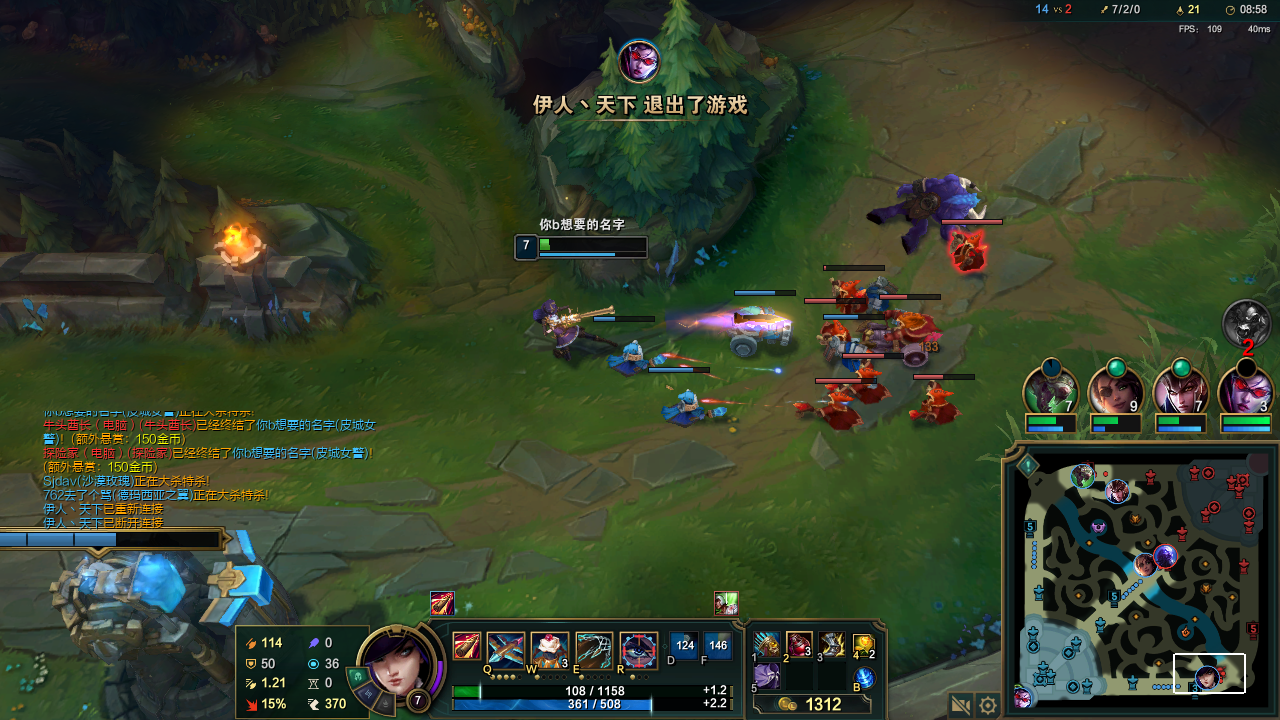DFXB: (862, 309, 942, 367), (950, 221, 994, 274), (917, 379, 957, 425), (816, 392, 860, 432), (858, 364, 899, 405), (829, 280, 866, 315), (815, 313, 847, 338)
WFXB: (732, 304, 786, 350), (605, 337, 662, 374), (666, 386, 710, 422), (837, 337, 862, 361)
